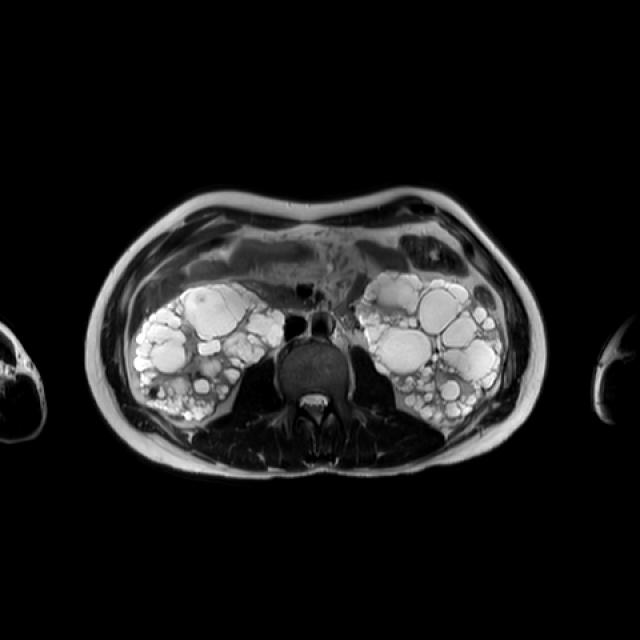sag: (134, 283, 284, 420)
sol: (355, 270, 507, 429)
